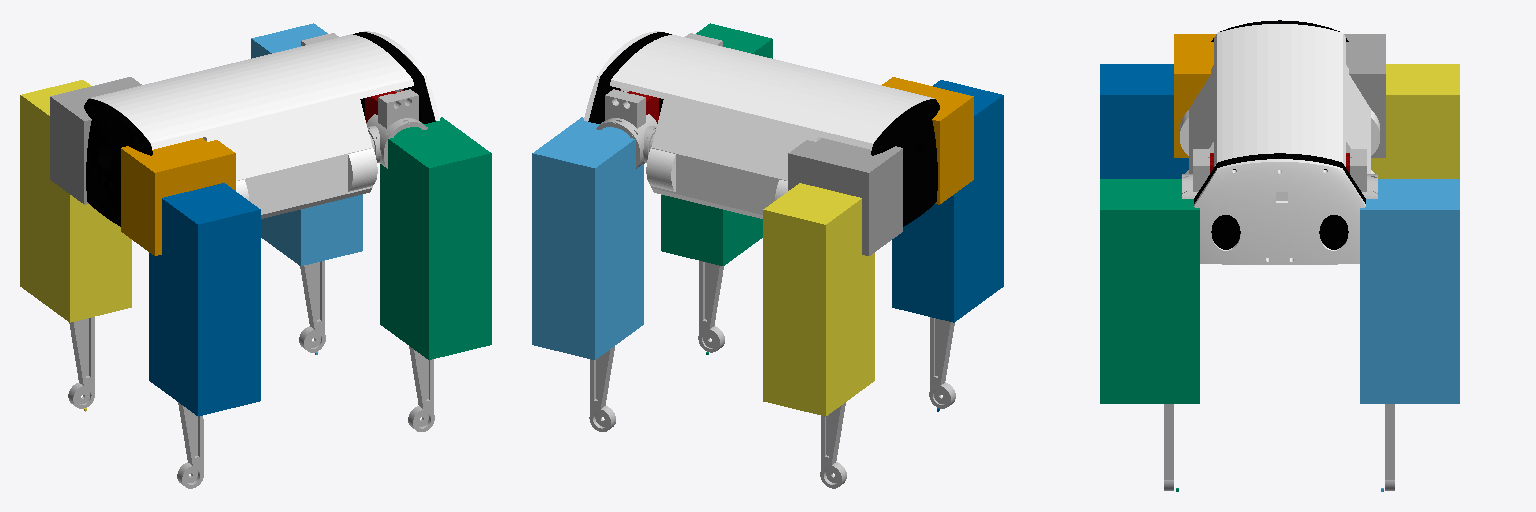
The robot description file, URDF, robot "brian_visualize_collision":
<?xml version="1.0"?>
<robot name="brian_visualize_collision">
  <link name="base_link">
    <visual>
    <origin xyz="0.000 0.000 0.003" rpy ="0.000 0.000 0.000"/>
      <geometry>
        <mesh filename= "package://brian_description/mesh_files/dae_files/base.dae"/>
      </geometry>
    </visual>
    <inertial>
      <origin xyz="0.000 0.000 0.000" rpy ="0.000 0.000 0.000"/>
      <mass value="0.900"/>
      <inertia
        ixx="0.00449" ixy="0.00000" ixz="0.00000"
        iyy="0.00419" iyz="0.00000"
        izz="0.00560"/>
    </inertial>
    <collision>
      <origin xyz="0.000 0.000 0.003" rpy ="0.000 0.000 0.000"/>
      <geometry>
        <box size="0.140 0.154 0.070"/>
      </geometry>
    </collision>
  </link>

  <link name="hip_fl_ref">
    <visual>
    <origin xyz="0.000 0.000 0.000" rpy ="0.000 0.000 0.000"/>
      <geometry>
        <box size="0.002 0.002 0.002"/>
      </geometry>
    </visual>
    <inertial>
      <origin xyz="0.000 0.000 0.000" rpy ="0.000 0.000 0.000"/>
      <mass value="0.000"/>
      <inertia
        ixx="0.00000" ixy="0.00000" ixz="0.00000"
        iyy="0.00000" iyz="0.00000"
        izz="0.00000"/>
    </inertial>
    <collision>
      <origin xyz="0.000 0.000 0.000" rpy ="0.000 0.000 0.000"/>
      <geometry>
        <box size="0.002 0.002 0.002"/>
      </geometry>
    </collision>
  </link>

  <link name="hip_fr_ref">
    <visual>
    <origin xyz="0.000 0.000 0.000" rpy ="0.000 0.000 0.000"/>
      <geometry>
        <box size="0.002 0.002 0.002"/>
      </geometry>
    </visual>
    <inertial>
      <origin xyz="0.000 0.000 0.000" rpy ="0.000 0.000 0.000"/>
      <mass value="0.000"/>
      <inertia
        ixx="0.00000" ixy="0.00000" ixz="0.00000"
        iyy="0.00000" iyz="0.00000"
        izz="0.00000"/>
    </inertial>
    <collision>
      <origin xyz="0.000 0.000 0.000" rpy ="0.000 0.000 0.000"/>
      <geometry>
        <box size="0.002 0.002 0.002"/>
      </geometry>
    </collision>
  </link>

  <link name="hip_bl_ref">
    <visual>
    <origin xyz="0.000 0.000 0.000" rpy ="0.000 0.000 0.000"/>
      <geometry>
        <box size="0.002 0.002 0.002"/>
      </geometry>
    </visual>
    <inertial>
      <origin xyz="0.000 0.000 0.000" rpy ="0.000 0.000 0.000"/>
      <mass value="0.000"/>
      <inertia
        ixx="0.00000" ixy="0.00000" ixz="0.00000"
        iyy="0.00000" iyz="0.00000"
        izz="0.00000"/>
    </inertial>
    <collision>
      <origin xyz="0.000 0.000 0.000" rpy ="0.000 0.000 0.000"/>
      <geometry>
        <box size="0.002 0.002 0.002"/>
      </geometry>
    </collision>
  </link>

  <link name="hip_br_ref">
    <visual>
    <origin xyz="0.000 0.000 0.000" rpy ="0.000 0.000 0.000"/>
      <geometry>
        <box size="0.002 0.002 0.002"/>
      </geometry>
    </visual>
    <inertial>
      <origin xyz="0.000 0.000 0.000" rpy ="0.000 0.000 0.000"/>
      <mass value="0.000"/>
      <inertia
        ixx="0.00000" ixy="0.00000" ixz="0.00000"
        iyy="0.00000" iyz="0.00000"
        izz="0.00000"/>
    </inertial>
    <collision>
      <origin xyz="0.000 0.000 0.000" rpy ="0.000 0.000 0.000"/>
      <geometry>
        <box size="0.002 0.002 0.002"/>
      </geometry>
    </collision>
  </link>

  <link name="hip_fl_link">
    <visual>
    <origin xyz="-0.006 -0.000 0.011" rpy ="0.000 0.000 0.000"/>
      <geometry>
        <mesh filename= "package://brian_description/mesh_files/dae_files/hip_fl.dae"/>
      </geometry>
    </visual>
    <inertial>
      <origin xyz="0.000 0.000 0.000" rpy ="0.000 0.000 0.000"/>
      <mass value="0.233"/>
      <inertia
        ixx="0.00315" ixy="-0.00000" ixz="0.00002"
        iyy="0.00320" iyz="0.00000"
        izz="0.00313"/>
    </inertial>
    <collision>
      <origin xyz="-0.006 -0.000 0.011" rpy ="0.000 0.000 0.000"/>
      <geometry>
        <box size="0.071 0.052 0.070"/>
      </geometry>
    </collision>
  </link>

  <link name="hip_fr_link">
    <visual>
    <origin xyz="-0.006 0.000 0.011" rpy ="0.000 0.000 0.000"/>
      <geometry>
        <mesh filename= "package://brian_description/mesh_files/dae_files/hip_fr.dae"/>
      </geometry>
    </visual>
    <inertial>
      <origin xyz="0.000 0.000 0.000" rpy ="0.000 0.000 0.000"/>
      <mass value="0.233"/>
      <inertia
        ixx="0.00315" ixy="0.00000" ixz="0.00002"
        iyy="0.00320" iyz="-0.00000"
        izz="0.00313"/>
    </inertial>
    <collision>
      <origin xyz="-0.006 0.000 0.011" rpy ="0.000 0.000 0.000"/>
      <geometry>
        <box size="0.071 0.052 0.070"/>
      </geometry>
    </collision>
  </link>

  <link name="hip_bl_link">
    <visual>
    <origin xyz="0.006 -0.000 0.011" rpy ="0.000 0.000 0.000"/>
      <geometry>
        <box size="0.071 0.052 0.070"/>
      </geometry>
    </visual>
    <inertial>
      <origin xyz="0.000 0.000 0.000" rpy ="0.000 0.000 0.000"/>
      <mass value="0.233"/>
      <inertia
        ixx="0.00315" ixy="0.00000" ixz="-0.00002"
        iyy="0.00320" iyz="0.00000"
        izz="0.00313"/>
    </inertial>
    <collision>
      <origin xyz="0.006 -0.000 0.011" rpy ="0.000 0.000 0.000"/>
      <geometry>
        <box size="0.071 0.052 0.070"/>
      </geometry>
    </collision>
  </link>

  <link name="hip_br_link">
    <visual>
    <origin xyz="0.006 0.000 0.011" rpy ="0.000 0.000 0.000"/>
      <geometry>
        <box size="0.071 0.052 0.070"/>
      </geometry>
    </visual>
    <inertial>
      <origin xyz="0.000 0.000 0.000" rpy ="0.000 0.000 0.000"/>
      <mass value="0.233"/>
      <inertia
        ixx="0.00315" ixy="-0.00000" ixz="-0.00002"
        iyy="0.00320" iyz="-0.00000"
        izz="0.00313"/>
    </inertial>
    <collision>
      <origin xyz="0.006 0.000 0.011" rpy ="0.000 0.000 0.000"/>
      <geometry>
        <box size="0.071 0.052 0.070"/>
      </geometry>
    </collision>
  </link>

  <link name="femur_fl_link">
    <visual>
    <origin xyz="0.004 0.002 -0.057" rpy ="0.000 0.000 0.000"/>
      <geometry>
        <box size="0.055 0.075 0.161"/>
      </geometry>
    </visual>
    <inertial>
      <origin xyz="0.000 0.000 0.000" rpy ="0.000 0.000 0.000"/>
      <mass value="0.084"/>
      <inertia
        ixx="0.00499" ixy="-0.00000" ixz="0.00002"
        iyy="0.00497" iyz="0.00001"
        izz="0.00456"/>
    </inertial>
    <collision>
      <origin xyz="0.004 0.002 -0.057" rpy ="0.000 0.000 0.000"/>
      <geometry>
        <box size="0.055 0.075 0.161"/>
      </geometry>
    </collision>
  </link>

  <link name="femur_fr_link">
    <visual>
    <origin xyz="0.004 -0.002 -0.057" rpy ="0.000 0.000 0.000"/>
      <geometry>
        <box size="0.055 0.075 0.161"/>
      </geometry>
    </visual>
    <inertial>
      <origin xyz="0.000 0.000 0.000" rpy ="0.000 0.000 0.000"/>
      <mass value="0.084"/>
      <inertia
        ixx="0.00499" ixy="0.00000" ixz="0.00002"
        iyy="0.00497" iyz="-0.00001"
        izz="0.00456"/>
    </inertial>
    <collision>
      <origin xyz="0.004 -0.002 -0.057" rpy ="0.000 0.000 0.000"/>
      <geometry>
        <box size="0.055 0.075 0.161"/>
      </geometry>
    </collision>
  </link>

  <link name="femur_bl_link">
    <visual>
    <origin xyz="0.004 0.002 -0.057" rpy ="0.000 0.000 0.000"/>
      <geometry>
        <box size="0.055 0.075 0.161"/>
      </geometry>
    </visual>
    <inertial>
      <origin xyz="0.000 0.000 0.000" rpy ="0.000 0.000 0.000"/>
      <mass value="0.084"/>
      <inertia
        ixx="0.00499" ixy="-0.00000" ixz="0.00002"
        iyy="0.00497" iyz="0.00001"
        izz="0.00456"/>
    </inertial>
    <collision>
      <origin xyz="0.004 0.002 -0.057" rpy ="0.000 0.000 0.000"/>
      <geometry>
        <box size="0.055 0.075 0.161"/>
      </geometry>
    </collision>
  </link>

  <link name="femur_br_link">
    <visual>
    <origin xyz="0.004 -0.002 -0.057" rpy ="0.000 0.000 0.000"/>
      <geometry>
        <box size="0.055 0.075 0.161"/>
      </geometry>
    </visual>
    <inertial>
      <origin xyz="0.000 0.000 0.000" rpy ="0.000 0.000 0.000"/>
      <mass value="0.084"/>
      <inertia
        ixx="0.00499" ixy="0.00000" ixz="0.00002"
        iyy="0.00497" iyz="-0.00001"
        izz="0.00456"/>
    </inertial>
    <collision>
      <origin xyz="0.004 -0.002 -0.057" rpy ="0.000 0.000 0.000"/>
      <geometry>
        <box size="0.055 0.075 0.161"/>
      </geometry>
    </collision>
  </link>

  <link name="tibia_fl_link">
    <visual>
      <geometry>
        <mesh filename= "package://brian_description/mesh_files/dae_files/tibia_l.dae"/>
      </geometry>
    </visual>
    <inertial>
      <origin xyz="0.000 0.000 0.000" rpy ="0.000 0.000 0.000"/>
      <mass value="0.034"/>
      <inertia
        ixx="0.00178" ixy="-0.00000" ixz="-0.00001"
        iyy="0.00178" iyz="-0.00001"
        izz="0.00164"/>
    </inertial>
    <collision>
      <geometry>
        <mesh filename= "package://brian_description/mesh_files/dae_files/tibia_l.dae"/>
      </geometry>
    </collision>
  </link>

  <link name="tibia_fr_link">
    <visual>
      <geometry>
        <mesh filename= "package://brian_description/mesh_files/dae_files/tibia_r.dae"/>
      </geometry>
    </visual>
    <inertial>
      <origin xyz="0.000 0.000 0.000" rpy ="0.000 0.000 0.000"/>
      <mass value="0.034"/>
      <inertia
        ixx="0.00178" ixy="0.00000" ixz="-0.00001"
        iyy="0.00178" iyz="0.00001"
        izz="0.00164"/>
    </inertial>
    <collision>
      <geometry>
        <mesh filename= "package://brian_description/mesh_files/dae_files/tibia_r.dae"/>
      </geometry>
    </collision>
  </link>

  <link name="tibia_bl_link">
    <visual>
      <geometry>
        <mesh filename= "package://brian_description/mesh_files/dae_files/tibia_l.dae"/>
      </geometry>
    </visual>
    <inertial>
      <origin xyz="0.000 0.000 0.000" rpy ="0.000 0.000 0.000"/>
      <mass value="0.034"/>
      <inertia
        ixx="0.00178" ixy="-0.00000" ixz="-0.00001"
        iyy="0.00178" iyz="-0.00001"
        izz="0.00164"/>
    </inertial>
    <collision>
      <geometry>
        <mesh filename= "package://brian_description/mesh_files/dae_files/tibia_l.dae"/>
      </geometry>
    </collision>
  </link>

  <link name="tibia_br_link">
    <visual>
      <geometry>
        <mesh filename= "package://brian_description/mesh_files/dae_files/tibia_r.dae"/>
      </geometry>
    </visual>
    <inertial>
      <origin xyz="0.000 0.000 0.000" rpy ="0.000 0.000 0.000"/>
      <mass value="0.034"/>
      <inertia
        ixx="0.00178" ixy="0.00000" ixz="-0.00001"
        iyy="0.00178" iyz="0.00001"
        izz="0.00164"/>
    </inertial>
    <collision>
      <geometry>
        <mesh filename= "package://brian_description/mesh_files/dae_files/tibia_r.dae"/>
      </geometry>
    </collision>
  </link>

  <link name="feet_fl">
    <visual>
    <origin xyz="0.000 0.000 0.000" rpy ="0.000 0.000 0.000"/>
      <geometry>
        <box size="0.002 0.002 0.002"/>
      </geometry>
    </visual>
    <inertial>
      <origin xyz="0.000 0.000 0.000" rpy ="0.000 0.000 0.000"/>
      <mass value="0.000"/>
      <inertia
        ixx="0.00000" ixy="0.00000" ixz="0.00000"
        iyy="0.00000" iyz="0.00000"
        izz="0.00000"/>
    </inertial>
    <collision>
      <origin xyz="0.000 0.000 0.000" rpy ="0.000 0.000 0.000"/>
      <geometry>
        <box size="0.002 0.002 0.002"/>
      </geometry>
    </collision>
  </link>

  <link name="feet_fr">
    <visual>
    <origin xyz="0.000 0.000 0.000" rpy ="0.000 0.000 0.000"/>
      <geometry>
        <box size="0.002 0.002 0.002"/>
      </geometry>
    </visual>
    <inertial>
      <origin xyz="0.000 0.000 0.000" rpy ="0.000 0.000 0.000"/>
      <mass value="0.000"/>
      <inertia
        ixx="0.00000" ixy="0.00000" ixz="0.00000"
        iyy="0.00000" iyz="0.00000"
        izz="0.00000"/>
    </inertial>
    <collision>
      <origin xyz="0.000 0.000 0.000" rpy ="0.000 0.000 0.000"/>
      <geometry>
        <box size="0.002 0.002 0.002"/>
      </geometry>
    </collision>
  </link>

  <link name="feet_bl">
    <visual>
    <origin xyz="0.000 0.000 0.000" rpy ="0.000 0.000 0.000"/>
      <geometry>
        <box size="0.002 0.002 0.002"/>
      </geometry>
    </visual>
    <inertial>
      <origin xyz="0.000 0.000 0.000" rpy ="0.000 0.000 0.000"/>
      <mass value="0.000"/>
      <inertia
        ixx="0.00000" ixy="0.00000" ixz="0.00000"
        iyy="0.00000" iyz="0.00000"
        izz="0.00000"/>
    </inertial>
    <collision>
      <origin xyz="0.000 0.000 0.000" rpy ="0.000 0.000 0.000"/>
      <geometry>
        <box size="0.002 0.002 0.002"/>
      </geometry>
    </collision>
  </link>

  <link name="feet_br">
    <visual>
    <origin xyz="0.000 0.000 0.000" rpy ="0.000 0.000 0.000"/>
      <geometry>
        <box size="0.002 0.002 0.002"/>
      </geometry>
    </visual>
    <inertial>
      <origin xyz="0.000 0.000 0.000" rpy ="0.000 0.000 0.000"/>
      <mass value="0.000"/>
      <inertia
        ixx="0.00000" ixy="0.00000" ixz="0.00000"
        iyy="0.00000" iyz="0.00000"
        izz="0.00000"/>
    </inertial>
    <collision>
      <origin xyz="0.000 0.000 0.000" rpy ="0.000 0.000 0.000"/>
      <geometry>
        <box size="0.002 0.002 0.002"/>
      </geometry>
    </collision>
  </link>





  <joint name="fl_ref" type="fixed">
    <parent link="base_link"/>
    <child  link="hip_fl_ref"/>
    <origin xyz="0.10136 0.05355 0.00000"/>
  </joint>

  <joint name="fr_ref" type="fixed">
    <parent link="base_link"/>
    <child  link="hip_fr_ref"/>
    <origin xyz="0.10136 -0.05355 0.00000"/>
  </joint>

  <joint name="bl_ref" type="fixed">
    <parent link="base_link"/>
    <child  link="hip_bl_ref"/>
    <origin xyz="-0.10136 0.05355 0.00000"/>
  </joint>

  <joint name="br_ref" type="fixed">
    <parent link="base_link"/>
    <child  link="hip_br_ref"/>
    <origin xyz="-0.10136 -0.05355 0.00000"/>
  </joint>

  <joint name="hip1_fl" type="revolute">
    <axis xyz="1.000 0.000 0.000"/>
    <limit effort="10000.00000" lower="-1.57080" upper="1.57080" velocity="1.04720"/>
    <parent link="hip_fl_ref"/>
    <child  link="hip_fl_link"/>
    <origin xyz="0.00000 0.00000 0.00000"/>
  </joint>

  <joint name="hip1_fr" type="revolute">
    <axis xyz="1.000 0.000 0.000"/>
    <limit effort="10000.00000" lower="-1.57080" upper="1.57080" velocity="1.04720"/>
    <parent link="hip_fr_ref"/>
    <child  link="hip_fr_link"/>
    <origin xyz="0.00000 0.00000 0.00000"/>
  </joint>

  <joint name="hip1_bl" type="revolute">
    <axis xyz="1.000 0.000 0.000"/>
    <limit effort="10000.00000" lower="-1.57080" upper="1.57080" velocity="1.04720"/>
    <parent link="hip_bl_ref"/>
    <child  link="hip_bl_link"/>
    <origin xyz="0.00000 0.00000 0.00000"/>
  </joint>

  <joint name="hip1_br" type="revolute">
    <axis xyz="1.000 0.000 0.000"/>
    <limit effort="10000.00000" lower="-1.57080" upper="1.57080" velocity="1.04720"/>
    <parent link="hip_br_ref"/>
    <child  link="hip_br_link"/>
    <origin xyz="0.00000 0.00000 0.00000"/>
  </joint>

  <joint name="hip2_fl" type="revolute">
    <axis xyz="0.000 1.000 0.000"/>
    <limit effort="10000.00000" lower="0.00000" upper="3.14159" velocity="1.04720"/>
    <parent link="hip_fl_link"/>
    <child  link="femur_fl_link"/>
    <origin xyz="0.00000 0.04200 0.00000"/>
  </joint>

  <joint name="hip2_fr" type="revolute">
    <axis xyz="0.000 1.000 0.000"/>
    <limit effort="10000.00000" lower="0.00000" upper="3.14159" velocity="1.04720"/>
    <parent link="hip_fr_link"/>
    <child  link="femur_fr_link"/>
    <origin xyz="0.00000 -0.04200 0.00000"/>
  </joint>

  <joint name="hip2_bl" type="revolute">
    <axis xyz="0.000 1.000 0.000"/>
    <limit effort="10000.00000" lower="0.00000" upper="3.14159" velocity="1.04720"/>
    <parent link="hip_bl_link"/>
    <child  link="femur_bl_link"/>
    <origin xyz="0.00000 0.04200 0.00000"/>
  </joint>

  <joint name="hip2_br" type="revolute">
    <axis xyz="0.000 1.000 0.000"/>
    <limit effort="10000.00000" lower="0.00000" upper="3.14159" velocity="1.04720"/>
    <parent link="hip_br_link"/>
    <child  link="femur_br_link"/>
    <origin xyz="0.00000 -0.04200 0.00000"/>
  </joint>

  <joint name="knee_fl" type="revolute">
    <axis xyz="0.000 1.000 0.000"/>
    <limit effort="10000.00000" lower="-3.14159" upper="0.00000" velocity="1.04720"/>
    <parent link="femur_fl_link"/>
    <child  link="tibia_fl_link"/>
    <origin xyz="0.00000 -0.00436 -0.11335"/>
  </joint>

  <joint name="knee_fr" type="revolute">
    <axis xyz="0.000 1.000 0.000"/>
    <limit effort="10000.00000" lower="-3.14159" upper="0.00000" velocity="1.04720"/>
    <parent link="femur_fr_link"/>
    <child  link="tibia_fr_link"/>
    <origin xyz="0.00000 0.00436 -0.11335"/>
  </joint>

  <joint name="knee_bl" type="revolute">
    <axis xyz="0.000 1.000 0.000"/>
    <limit effort="10000.00000" lower="-3.14159" upper="0.00000" velocity="1.04720"/>
    <parent link="femur_bl_link"/>
    <child  link="tibia_bl_link"/>
    <origin xyz="0.00000 -0.00436 -0.11335"/>
  </joint>

  <joint name="knee_br" type="revolute">
    <axis xyz="0.000 1.000 0.000"/>
    <limit effort="10000.00000" lower="-3.14159" upper="0.00000" velocity="1.04720"/>
    <parent link="femur_br_link"/>
    <child  link="tibia_br_link"/>
    <origin xyz="0.00000 0.00436 -0.11335"/>
  </joint>

  <joint name="feet_fl_ref" type="fixed">
    <parent link="tibia_fl_link"/>
    <child  link="feet_fl"/>
    <origin xyz="0.00000 -0.01451 -0.10938"/>
  </joint>

  <joint name="feet_fr_ref" type="fixed">
    <parent link="tibia_fr_link"/>
    <child  link="feet_fr"/>
    <origin xyz="0.00000 0.01451 -0.10938"/>
  </joint>

  <joint name="feet_bl_ref" type="fixed">
    <parent link="tibia_bl_link"/>
    <child  link="feet_bl"/>
    <origin xyz="0.00000 -0.01451 -0.10938"/>
  </joint>

  <joint name="feet_br_ref" type="fixed">
    <parent link="tibia_br_link"/>
    <child  link="feet_br"/>
    <origin xyz="0.00000 0.01451 -0.10938"/>
  </joint>

</robot>

--- Render facts (derived) ---
3 views of the same robot in one strip: view 1: azimuth 30°, elevation 25°; view 2: azimuth 150°, elevation 25°; view 3: azimuth 270°, elevation 25° (orthographic).
Model brian_visualize_collision with 21 links and 20 joints (12 revolute, 8 fixed), rooted at base_link, posed every joint at zero.
Visible links, largest first — view 1: base_link, femur_fr_link, femur_br_link, femur_bl_link, hip_br_link, femur_fl_link, hip_bl_link, hip_fr_link, tibia_bl_link, tibia_fl_link, tibia_br_link, tibia_fr_link; view 2: base_link, femur_fl_link, femur_bl_link, femur_br_link, hip_bl_link, femur_fr_link, hip_br_link, hip_fl_link, tibia_fr_link, tibia_br_link, tibia_fl_link, tibia_bl_link; view 3: base_link, femur_fl_link, femur_fr_link, femur_bl_link, femur_br_link, hip_br_link, hip_bl_link, hip_fl_link, hip_fr_link, tibia_fl_link, tibia_fr_link.
Boxes of the visible links, x1=… form: base_link: x1=84, y1=31, x2=439, y2=226; femur_fr_link: x1=380, y1=117, x2=491, y2=359; femur_br_link: x1=149, y1=183, x2=260, y2=416; femur_bl_link: x1=20, y1=80, x2=131, y2=322; hip_br_link: x1=121, y1=138, x2=235, y2=255; femur_fl_link: x1=251, y1=23, x2=362, y2=265; hip_bl_link: x1=50, y1=77, x2=141, y2=204; hip_fr_link: x1=365, y1=89, x2=427, y2=168; tibia_bl_link: x1=68, y1=317, x2=94, y2=408; tibia_fl_link: x1=299, y1=261, x2=325, y2=352; tibia_br_link: x1=177, y1=402, x2=203, y2=488; tibia_fr_link: x1=408, y1=346, x2=434, y2=431; base_link: x1=584, y1=31, x2=939, y2=226; femur_fl_link: x1=532, y1=117, x2=643, y2=359; femur_bl_link: x1=763, y1=183, x2=874, y2=416; femur_br_link: x1=892, y1=80, x2=1003, y2=322; hip_bl_link: x1=788, y1=138, x2=902, y2=255; femur_fr_link: x1=661, y1=23, x2=772, y2=265; hip_br_link: x1=882, y1=77, x2=973, y2=204; hip_fl_link: x1=596, y1=89, x2=658, y2=168; tibia_fr_link: x1=698, y1=261, x2=724, y2=352; tibia_br_link: x1=929, y1=317, x2=955, y2=408; tibia_fl_link: x1=589, y1=346, x2=615, y2=431; tibia_bl_link: x1=820, y1=402, x2=846, y2=488; base_link: x1=1180, y1=20, x2=1379, y2=264; femur_fl_link: x1=1360, y1=179, x2=1459, y2=403; femur_fr_link: x1=1100, y1=179, x2=1199, y2=403; femur_bl_link: x1=1371, y1=64, x2=1459, y2=178; femur_br_link: x1=1100, y1=64, x2=1188, y2=178; hip_br_link: x1=1174, y1=34, x2=1215, y2=157; hip_bl_link: x1=1344, y1=34, x2=1385, y2=157; hip_fl_link: x1=1346, y1=149, x2=1377, y2=198; hip_fr_link: x1=1182, y1=149, x2=1213, y2=198; tibia_fl_link: x1=1385, y1=404, x2=1394, y2=490; tibia_fr_link: x1=1164, y1=404, x2=1173, y2=490.
Bounding box of the posed robot: 0.2647 × 0.2701 × 0.2853 m (x, y, z).
Meshes: 5 distinct files referenced, 7 mesh visuals loaded (5 Collada DAE).
